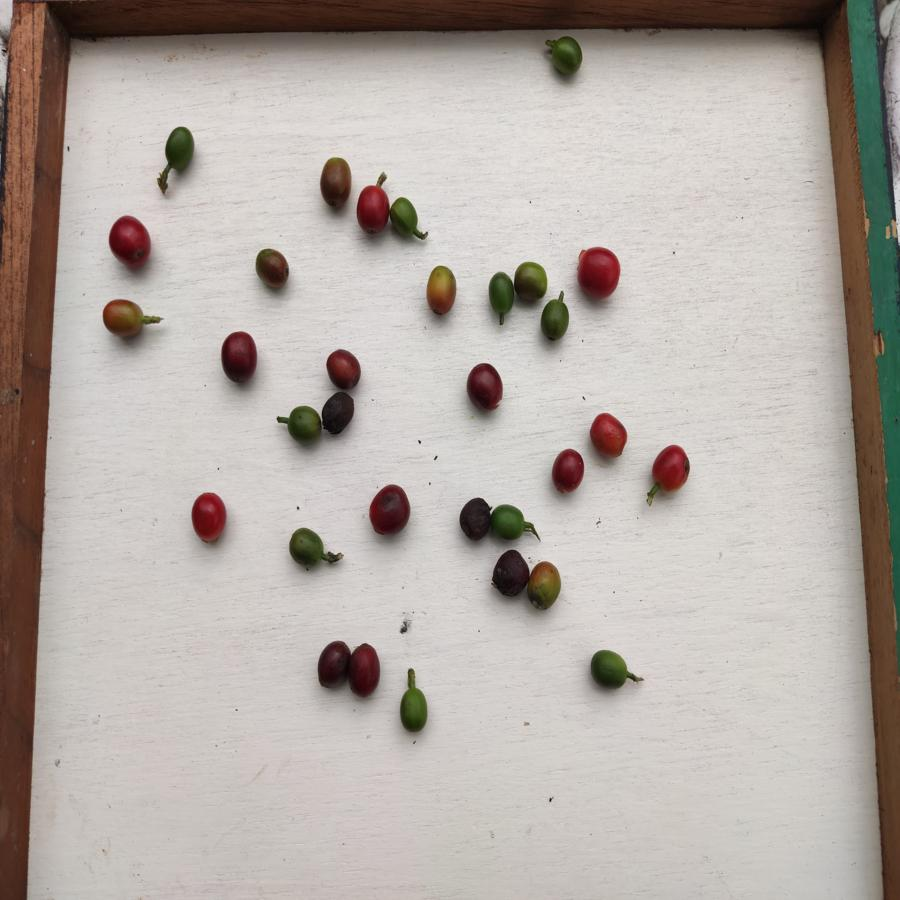Inmaduro: (589, 647, 628, 694), (511, 260, 551, 304), (549, 32, 586, 79), (161, 124, 196, 171), (285, 526, 324, 568), (489, 501, 528, 542), (396, 686, 429, 732), (286, 404, 322, 446), (389, 196, 420, 239), (540, 299, 571, 341), (486, 269, 515, 313)
Maduro: (576, 245, 625, 304), (106, 212, 154, 271), (586, 409, 628, 461), (186, 494, 229, 544), (650, 444, 692, 494), (356, 180, 391, 238), (554, 444, 586, 495)
Pinton: (316, 153, 353, 214), (97, 296, 146, 339), (525, 560, 563, 614), (423, 260, 457, 316), (254, 244, 291, 291)
Sobremaduro: (216, 329, 264, 386), (461, 361, 508, 415), (368, 484, 415, 538), (315, 636, 351, 693), (491, 547, 529, 601), (350, 640, 382, 704), (323, 346, 363, 392), (456, 496, 491, 546), (322, 394, 359, 436)
